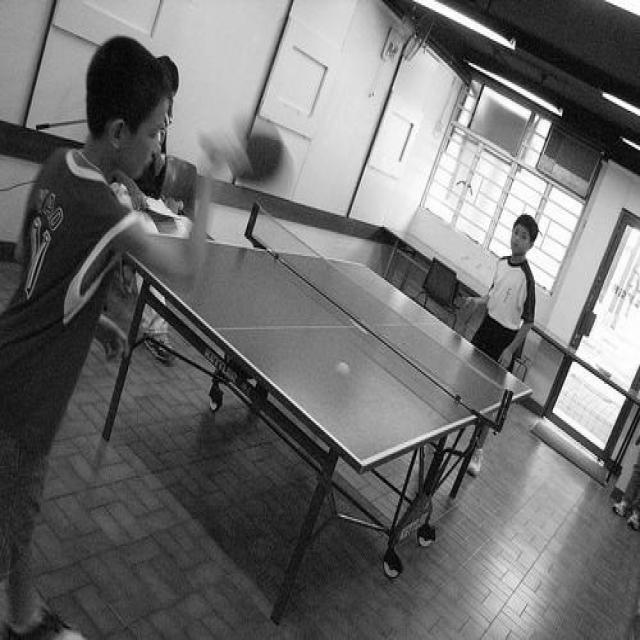ping-pong-ball: (336, 362, 350, 379)
